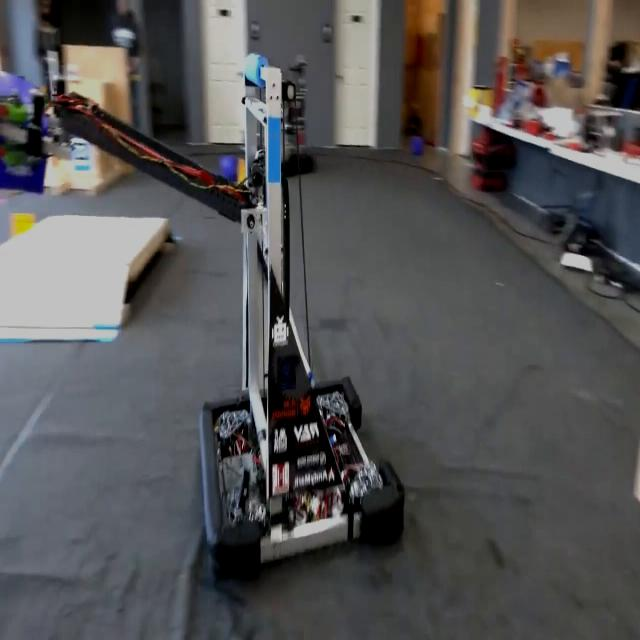frc_cube: (0, 80, 49, 193)
